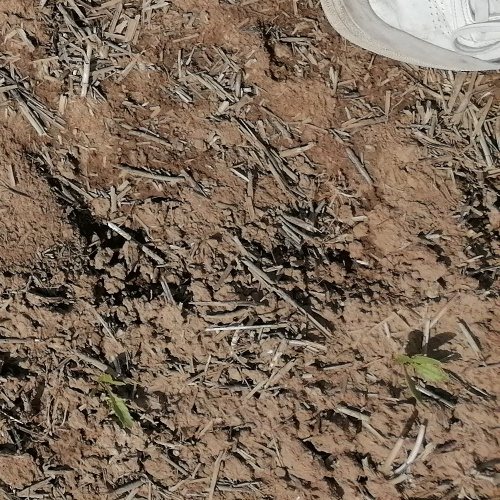beet: (398, 353, 448, 407), (99, 377, 134, 429)
